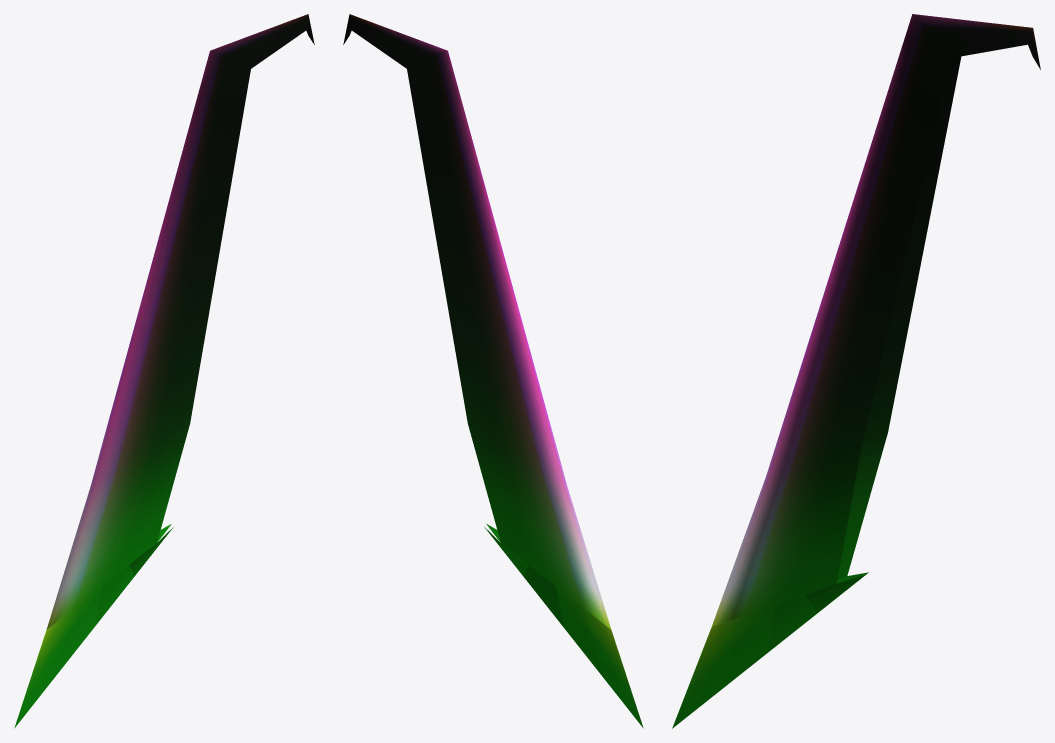
File: Trail7_8.fbx
The picture shows the model from 3 angles, left to right: view 1: azimuth 30°, elevation 25°; view 2: azimuth 150°, elevation 25°; view 3: azimuth 330°, elevation 25°; orthographic projection. The views are drawn at different scales.
Visible parts, largest first — view 1: Eff_Model_Shougun_07_8; view 2: Eff_Model_Shougun_07_8; view 3: Eff_Model_Shougun_07_8.
Part boxes in pixels (x1,y1,x2,y2): Eff_Model_Shougun_07_8: (14, 14, 314, 728); Eff_Model_Shougun_07_8: (343, 14, 643, 728); Eff_Model_Shougun_07_8: (672, 14, 1040, 728).
Bounding box in the file's own units: 210 × 430 × 27.31.
